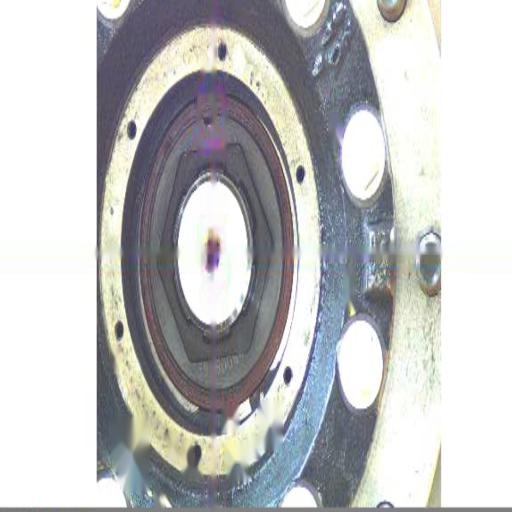center: (200, 232, 224, 276)
notch: (202, 108, 215, 144)
